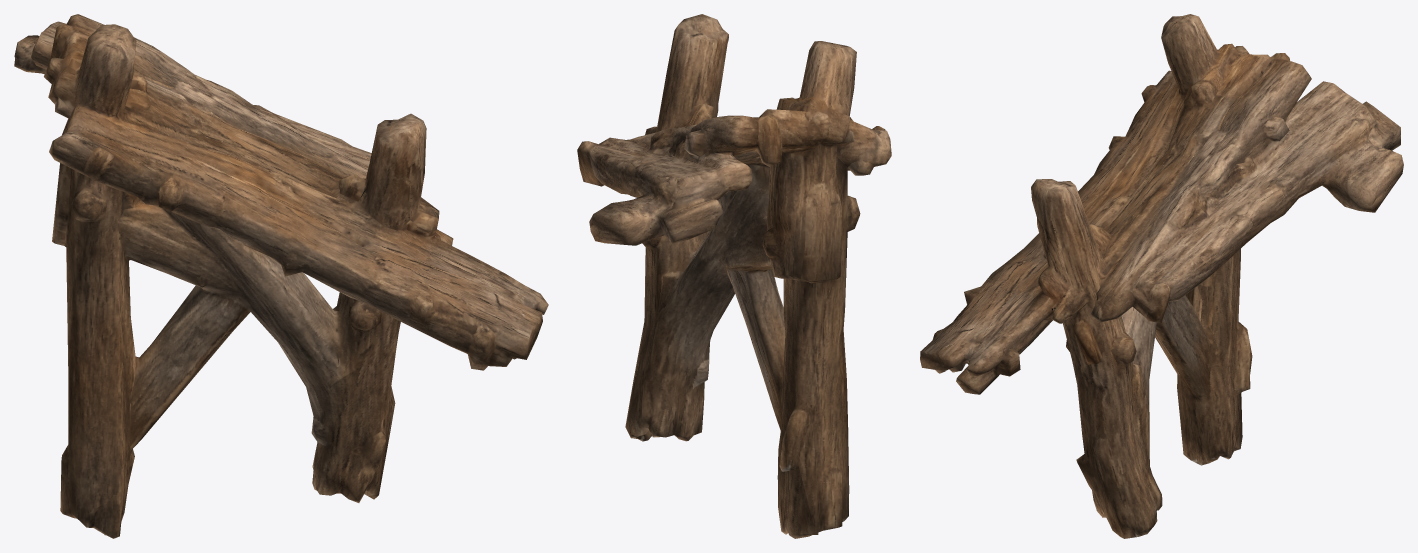
Rendered from timber_gallery.glb.
3 views of the same model, side by side, from view 1: azimuth 30°, elevation 25°; view 2: azimuth 150°, elevation 25°; view 3: azimuth 270°, elevation 25° (orthographic). The views are drawn at different scales.
Visible parts, largest first — view 1: low; view 2: low; view 3: low.
Part boxes in pixels (box(x1,y1,x2,y2)): low: box(14, 14, 548, 538); low: box(577, 14, 891, 538); low: box(920, 14, 1403, 538).
Size of the model in its own units: 3.04 by 4 by 3.95.
1 material, 1 textured.
